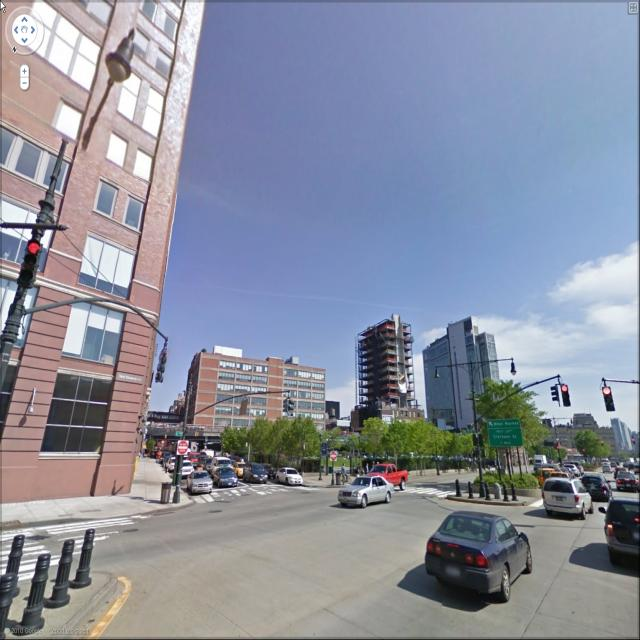b_1: (1, 14, 170, 477), (180, 345, 342, 444), (424, 303, 502, 423), (350, 314, 420, 432), (546, 402, 619, 457)
